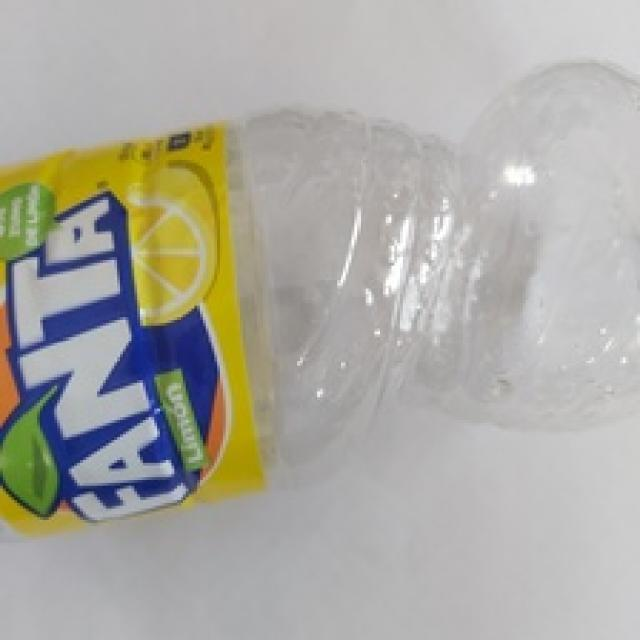Plastic: (0, 59, 640, 538)
